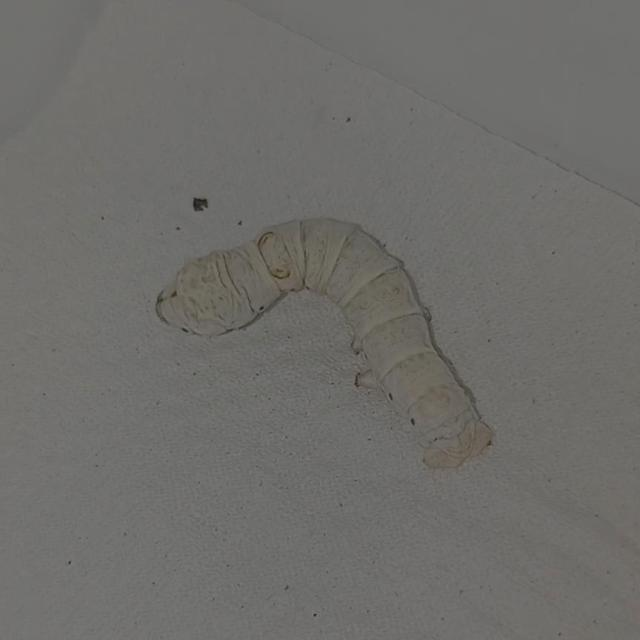Healthy: (145, 205, 512, 479)
